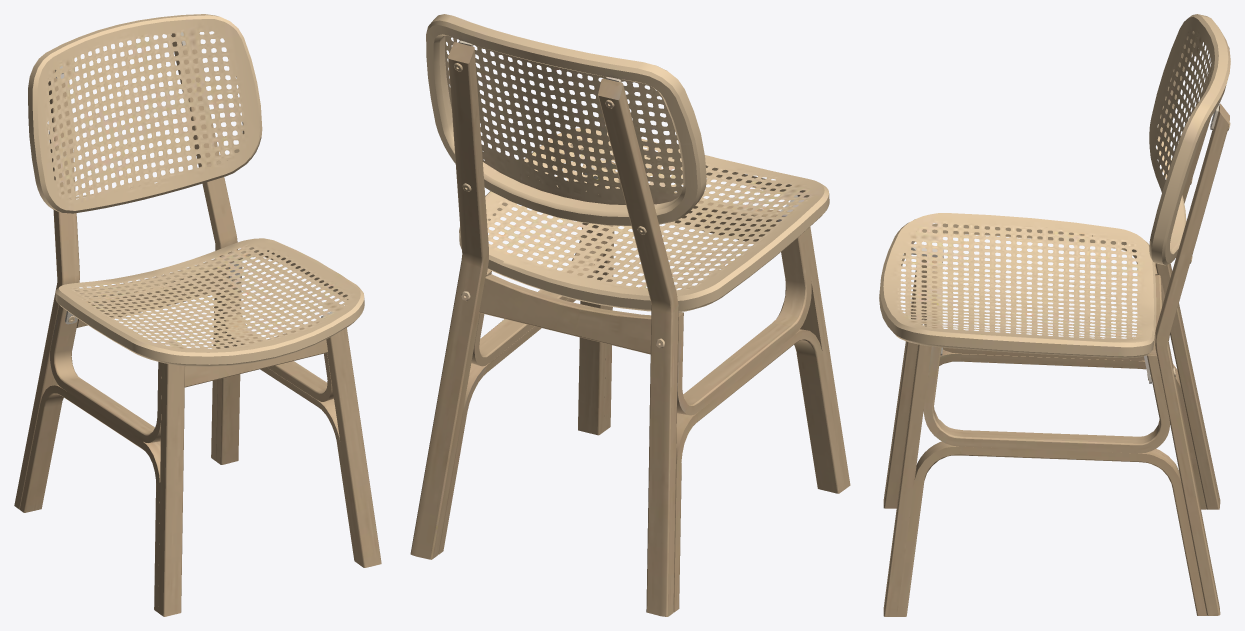
3 renders of one model, left to right at view 1: azimuth 30°, elevation 25°; view 2: azimuth 150°, elevation 25°; view 3: azimuth 270°, elevation 25°, orthographic. The views are drawn at different scales.
Parts seen in each view (by area): view 1: 50450236-VOXLÃƒâ€“V001; view 2: 50450236-VOXLÃƒâ€“V001; view 3: 50450236-VOXLÃƒâ€“V001.
Boxes of the visible parts, <box> form: 50450236-VOXLÃƒâ€“V001: <box>14,14,381,616</box>; 50450236-VOXLÃƒâ€“V001: <box>410,14,850,616</box>; 50450236-VOXLÃƒâ€“V001: <box>879,14,1230,616</box>.
Bounding box in the file's own units: 0.45 × 0.8506 × 0.5398.
1 material, 1 textured.
